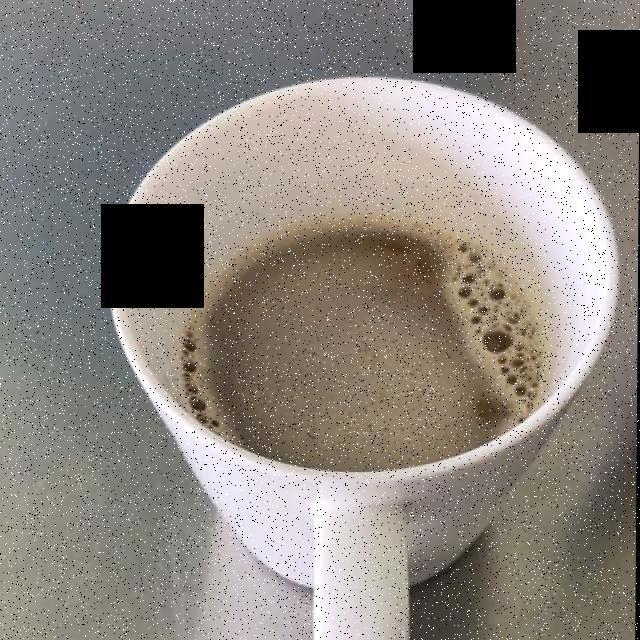cappuccino: (180, 221, 540, 465)
